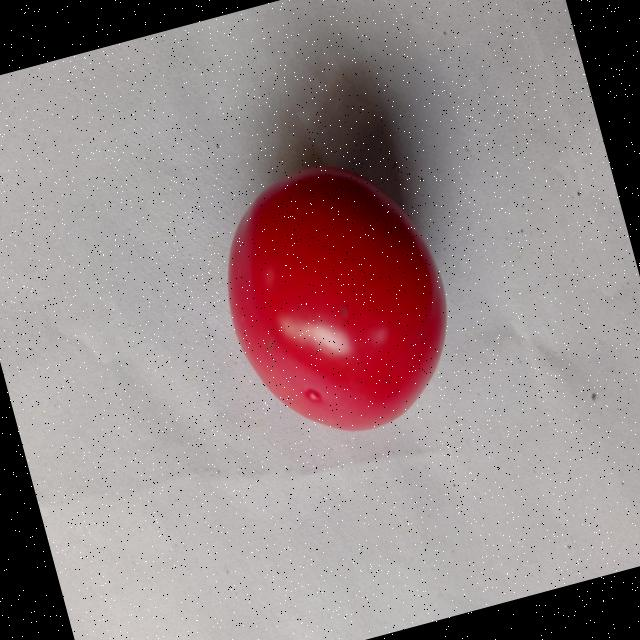Ripe: (194, 140, 479, 466)
